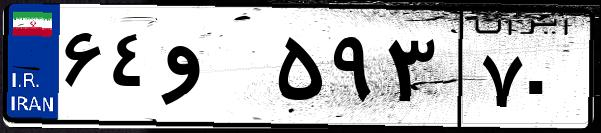0: (525, 38, 570, 115)
3: (385, 28, 445, 110)
4: (110, 28, 158, 98)
5: (270, 28, 330, 110)
6: (57, 26, 110, 100)
7: (475, 38, 525, 113)
9: (330, 28, 385, 110)
و: (158, 20, 270, 120)
